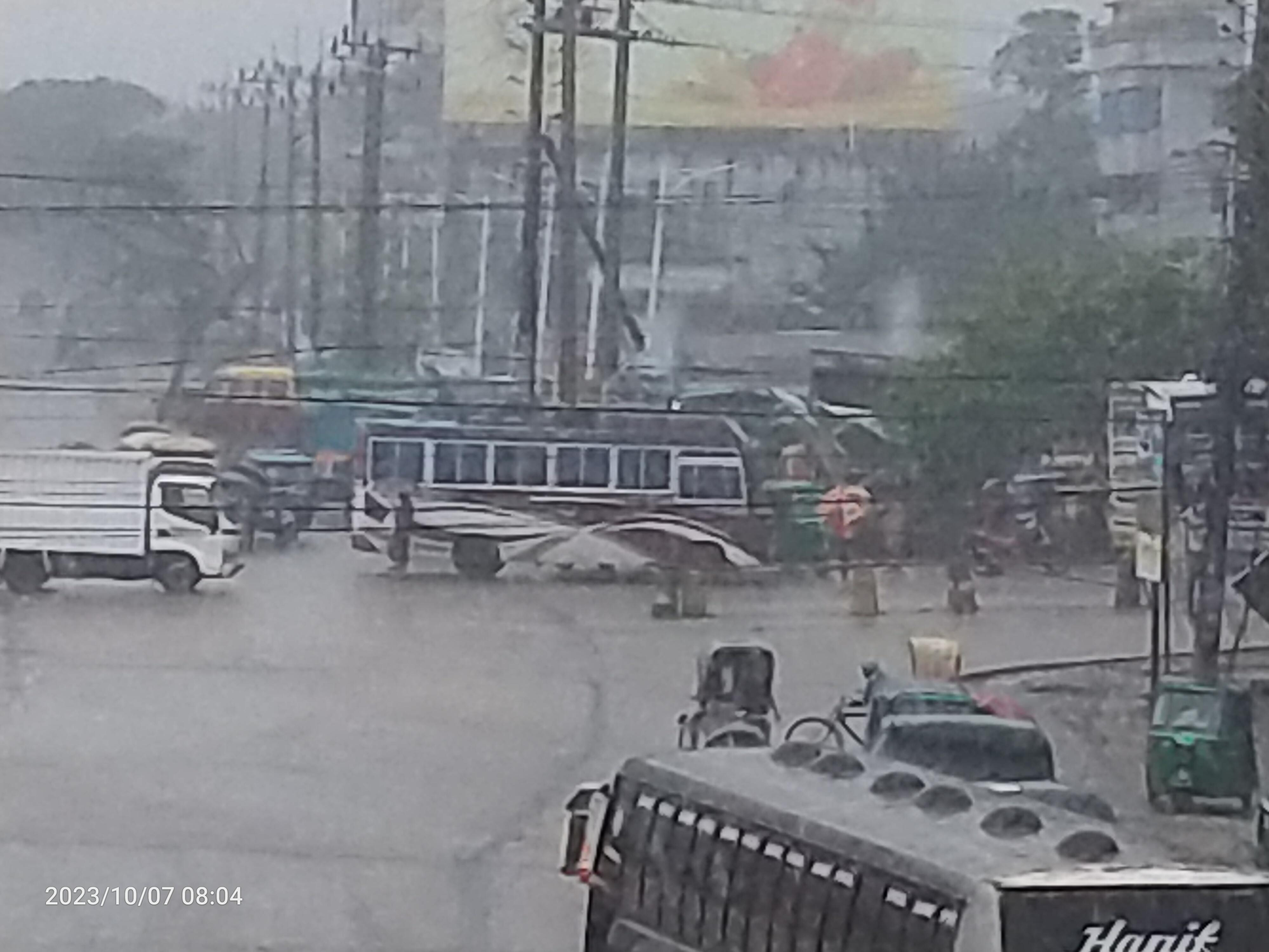Bus: (521, 722, 1269, 952), (329, 414, 793, 609)
Car: (773, 609, 976, 743), (662, 618, 807, 764)
Truck: (0, 399, 254, 627)
